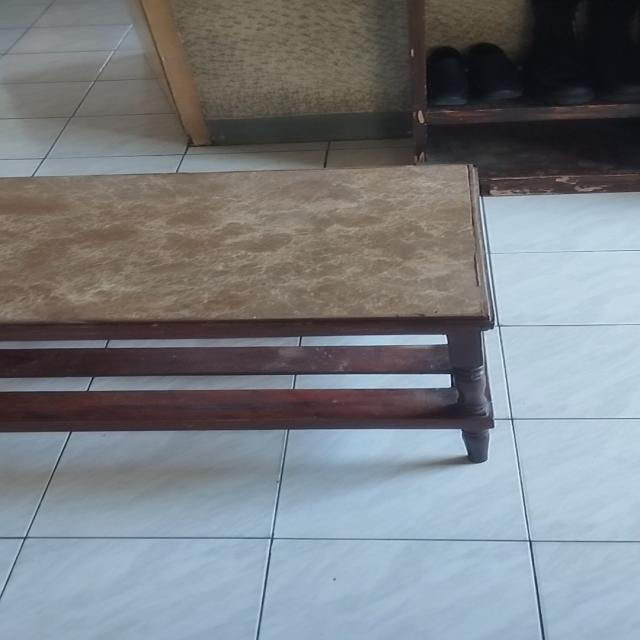table: (0, 163, 513, 470)
